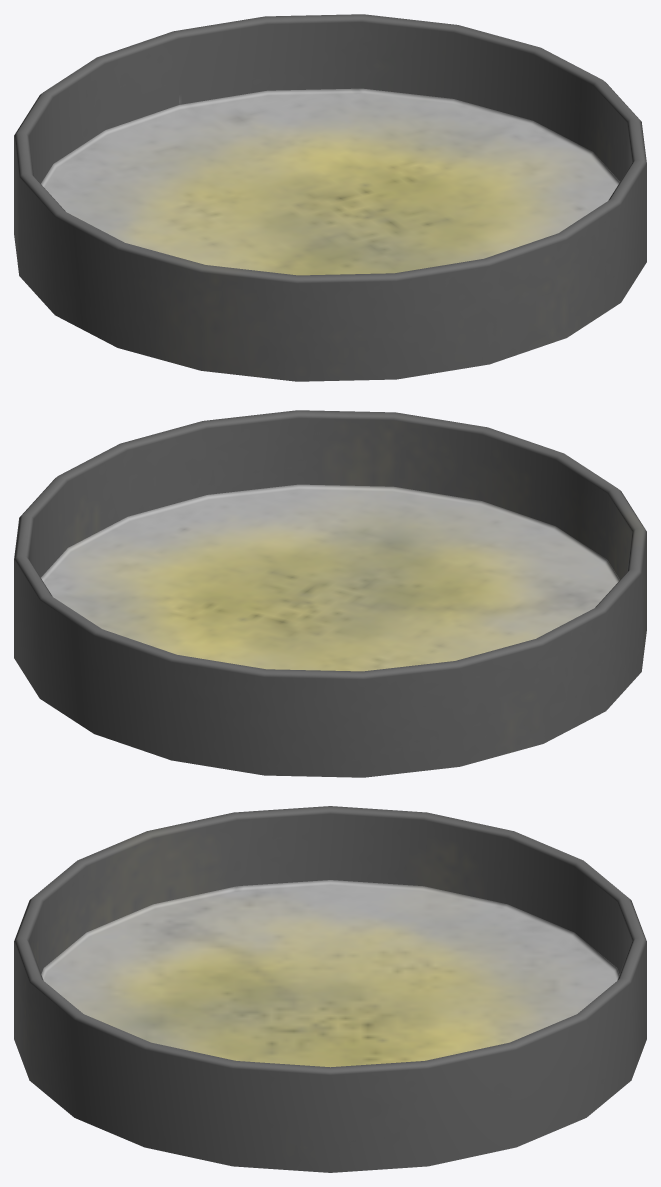
The model's file is SM_Microscope_Tape.fbx.
The picture shows the model from 3 angles, top to bottom: view 1: azimuth 30°, elevation 25°; view 2: azimuth 150°, elevation 25°; view 3: azimuth 270°, elevation 25°; orthographic projection.
Visible parts, largest first — view 1: SM_Microscope_Tape_LOD0; view 2: SM_Microscope_Tape_LOD0; view 3: SM_Microscope_Tape_LOD0.
Boxes of the visible parts, <box> form: SM_Microscope_Tape_LOD0: <box>14,14,646,381</box>; SM_Microscope_Tape_LOD0: <box>14,410,646,777</box>; SM_Microscope_Tape_LOD0: <box>14,806,646,1172</box>.
Size of the model in its own units: 8.32 by 8.32 by 1.46.
1 material, 1 textured.
